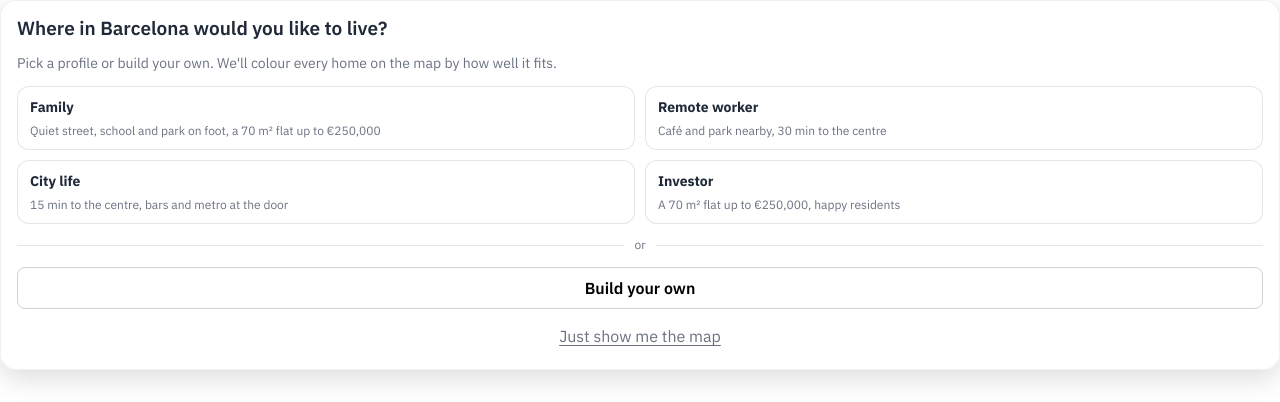
OnboardingPanel › Back returns to the profiles
The width and height of the screenshot is (1280, 402).
Click the button "Investor A 70 m² flat up to €250,000, happy residents".
click(686, 181)  # box [645,160,1263,224]
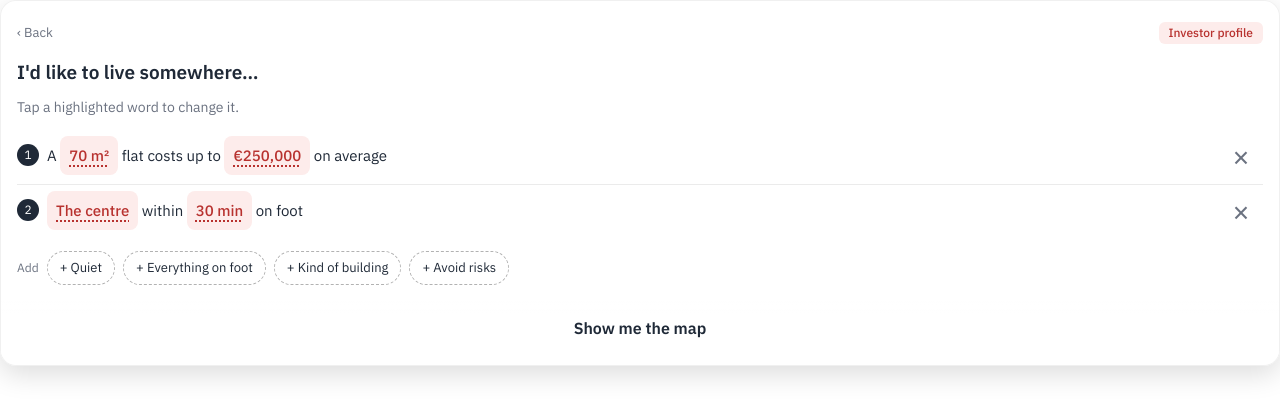
Click the button "‹ Back".
click(35, 33)  # box [17,17,53,49]
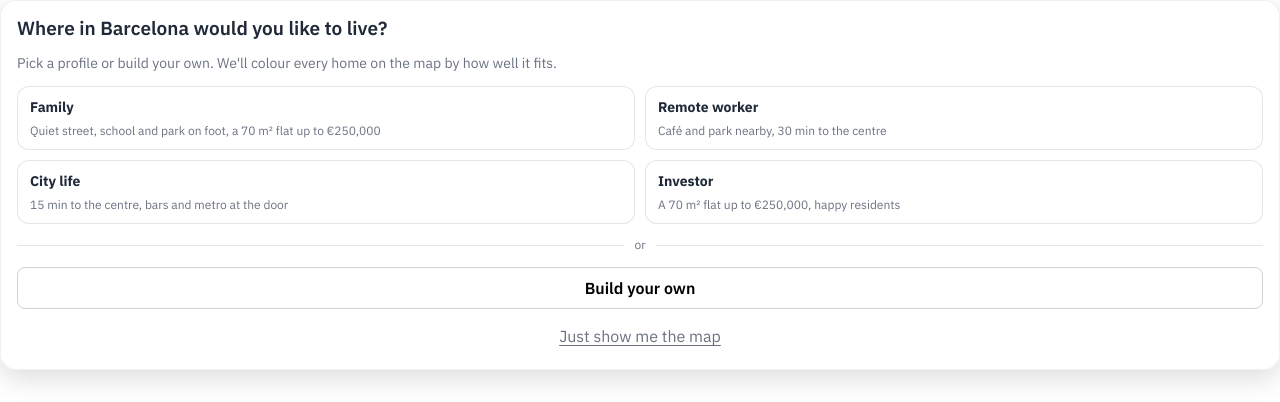
Expected: the heading "Where in Barcelona would you like to live?" is shown, [17,16,387,40]
